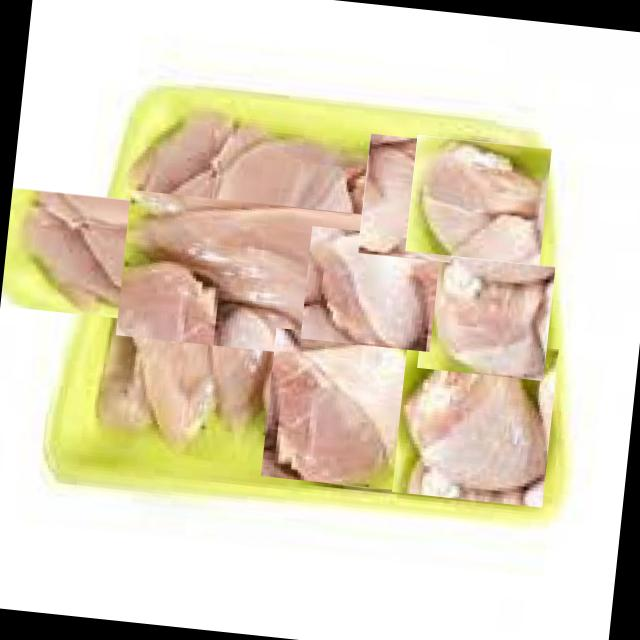chicken: (47, 136, 302, 392), (152, 152, 408, 406), (391, 332, 559, 508), (260, 328, 424, 490), (409, 130, 547, 268), (304, 220, 438, 356), (416, 253, 554, 381), (351, 140, 468, 256)
